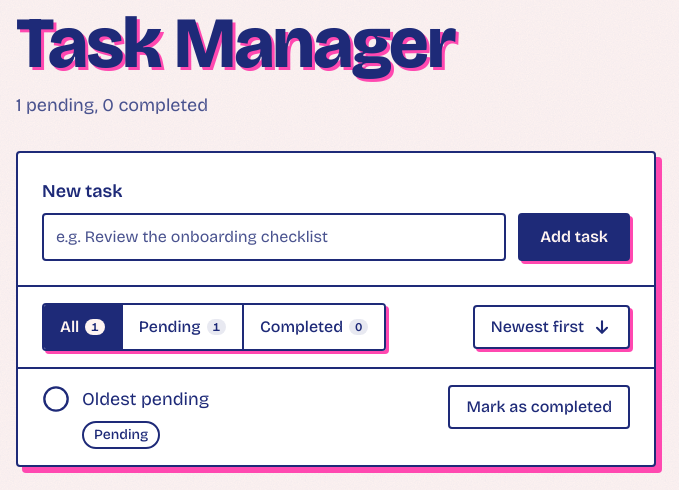
App › filtering and sorting › shows and announces a filter-specific empty state
Click the button "Completed 0" at (314, 327), box [244, 305, 384, 349]
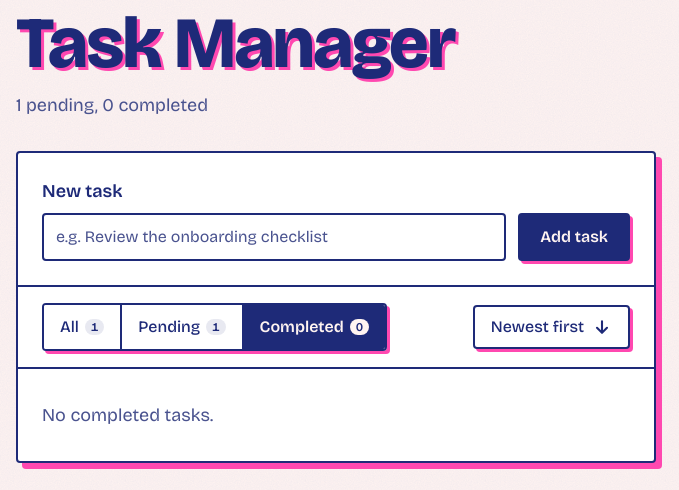
Expected: the element named "Filter by status" is shown, [42, 303, 387, 351]
Expected: the text "No completed tasks." is shown, [42, 404, 213, 426]
